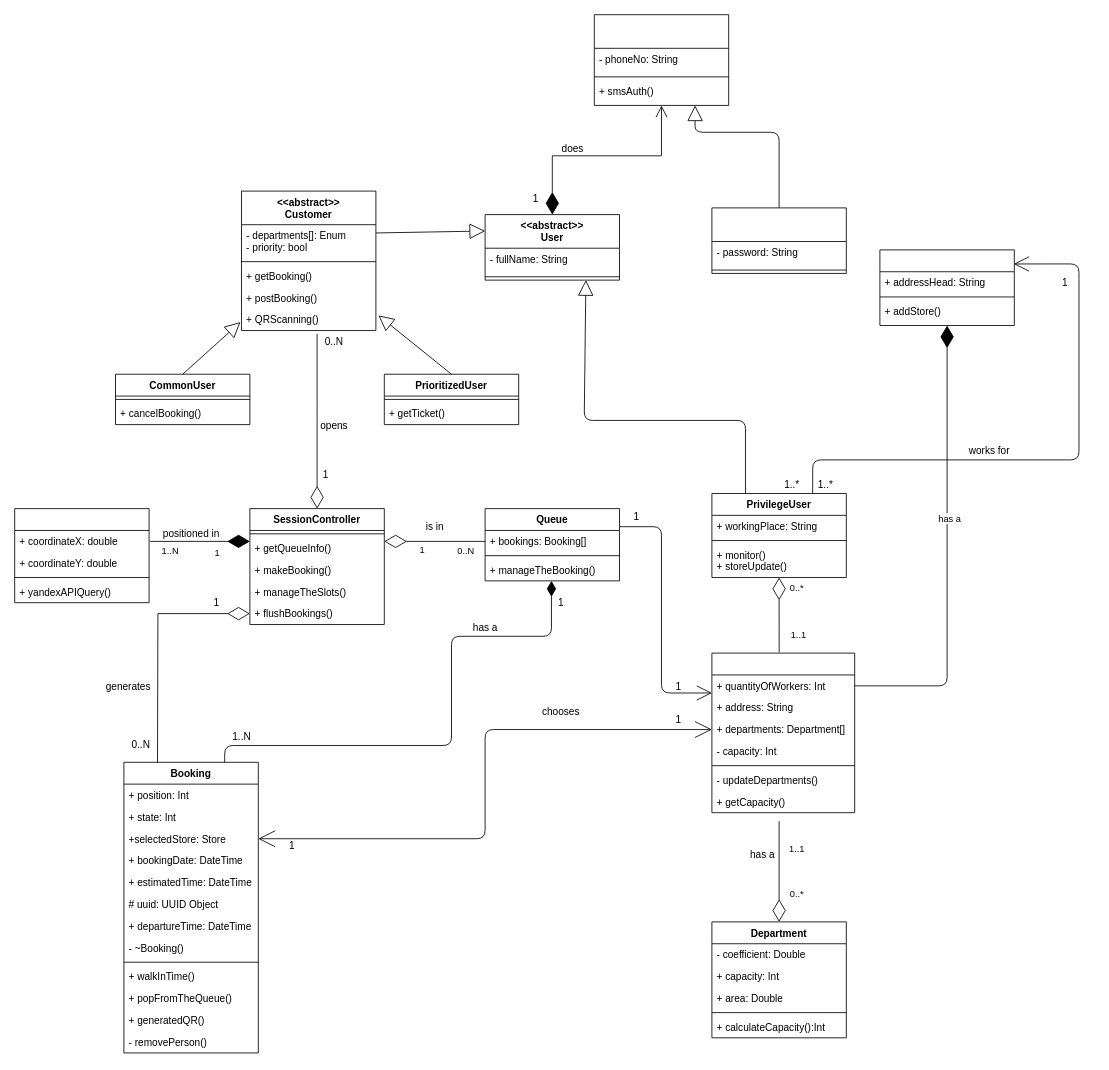
This 1109x1070 diagram has some shape labels left out. Here are the shapes that lost their labels. From the top down, the box of each, then its label:
(593, 14, 729, 105): Registration
(711, 207, 846, 273): Staff Registration
(879, 249, 1014, 326): Network
(14, 508, 149, 603): GeoController
(711, 652, 855, 813): Store
